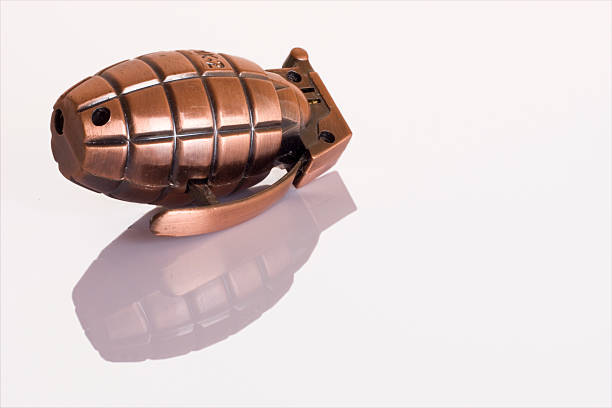e1: (45, 46, 354, 236)
